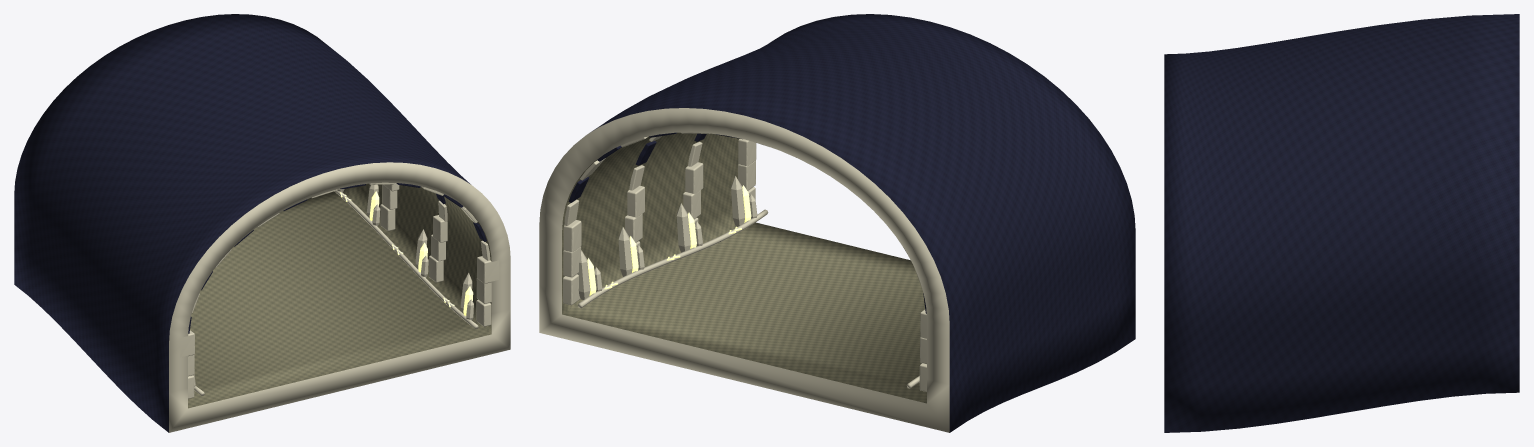
Rendered from grade_up.glb.
3 renders of one model, left to right at view 1: azimuth 30°, elevation 25°; view 2: azimuth 150°, elevation 25°; view 3: azimuth 270°, elevation 25°, orthographic. The views are drawn at different scales.
Parts seen in each view (by area): view 1: TunnelGeometry; view 2: TunnelGeometry; view 3: TunnelGeometry.
Boxes of the visible parts, box(x1,y1,x2,y2) form: TunnelGeometry: box(14, 14, 510, 432); TunnelGeometry: box(539, 14, 1135, 432); TunnelGeometry: box(1164, 14, 1519, 432).
Bounding box in the file's own units: 15.3 × 11.02 × 12.
4 materials, 2 textured.
